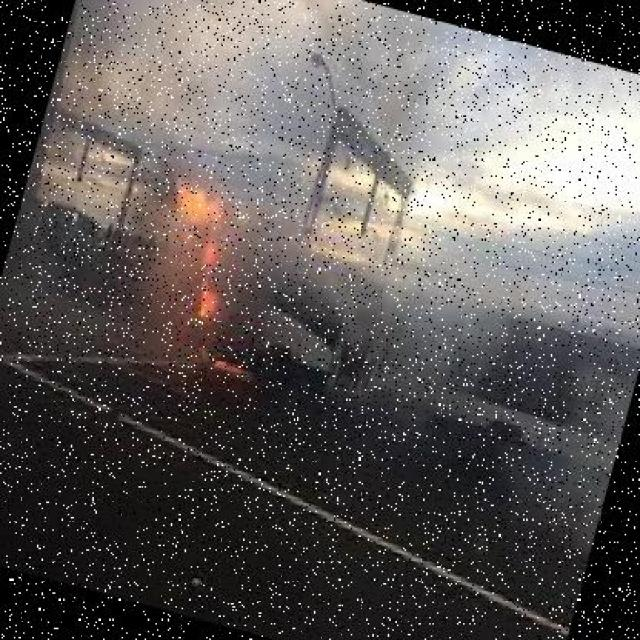fire: (115, 171, 297, 383)
